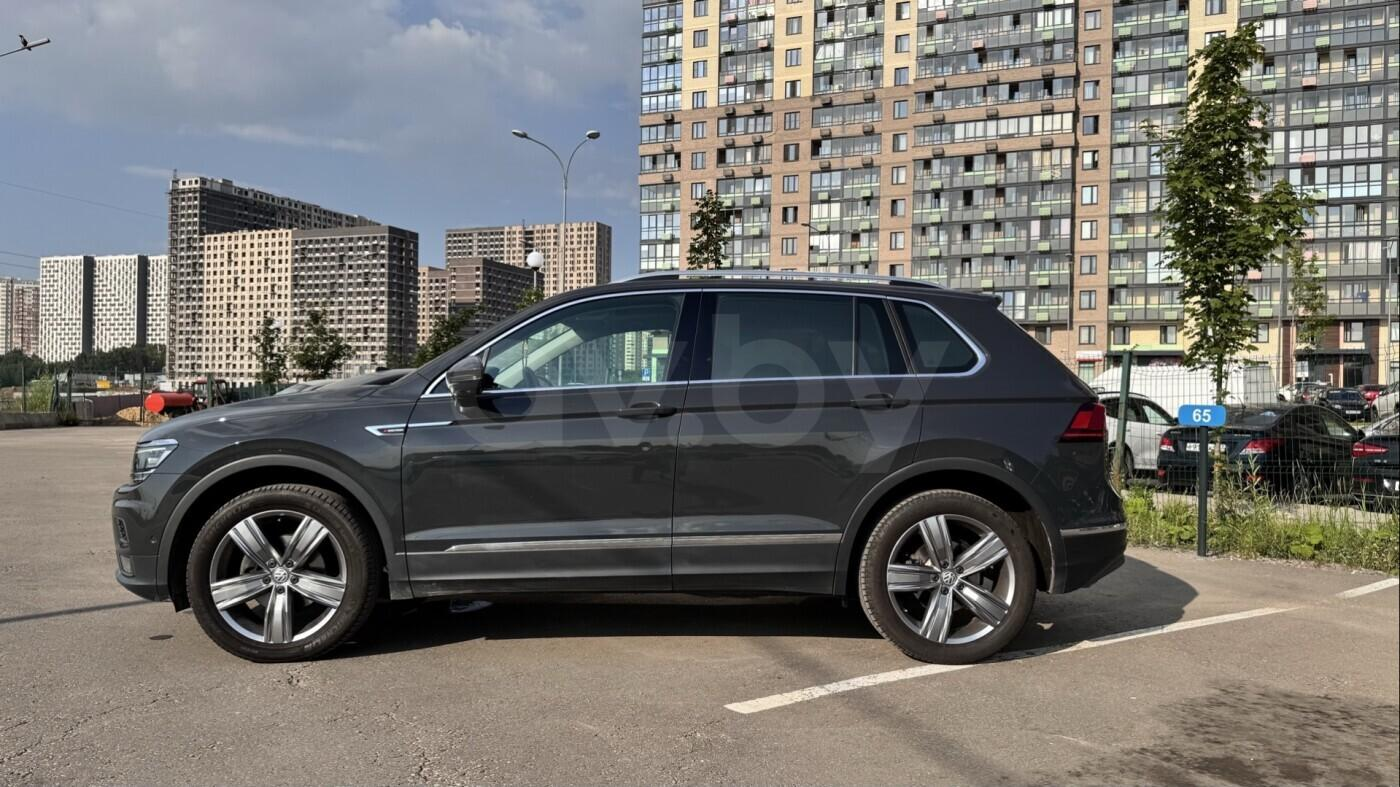Tiguan_2016-2021: (110, 273, 1127, 676)
